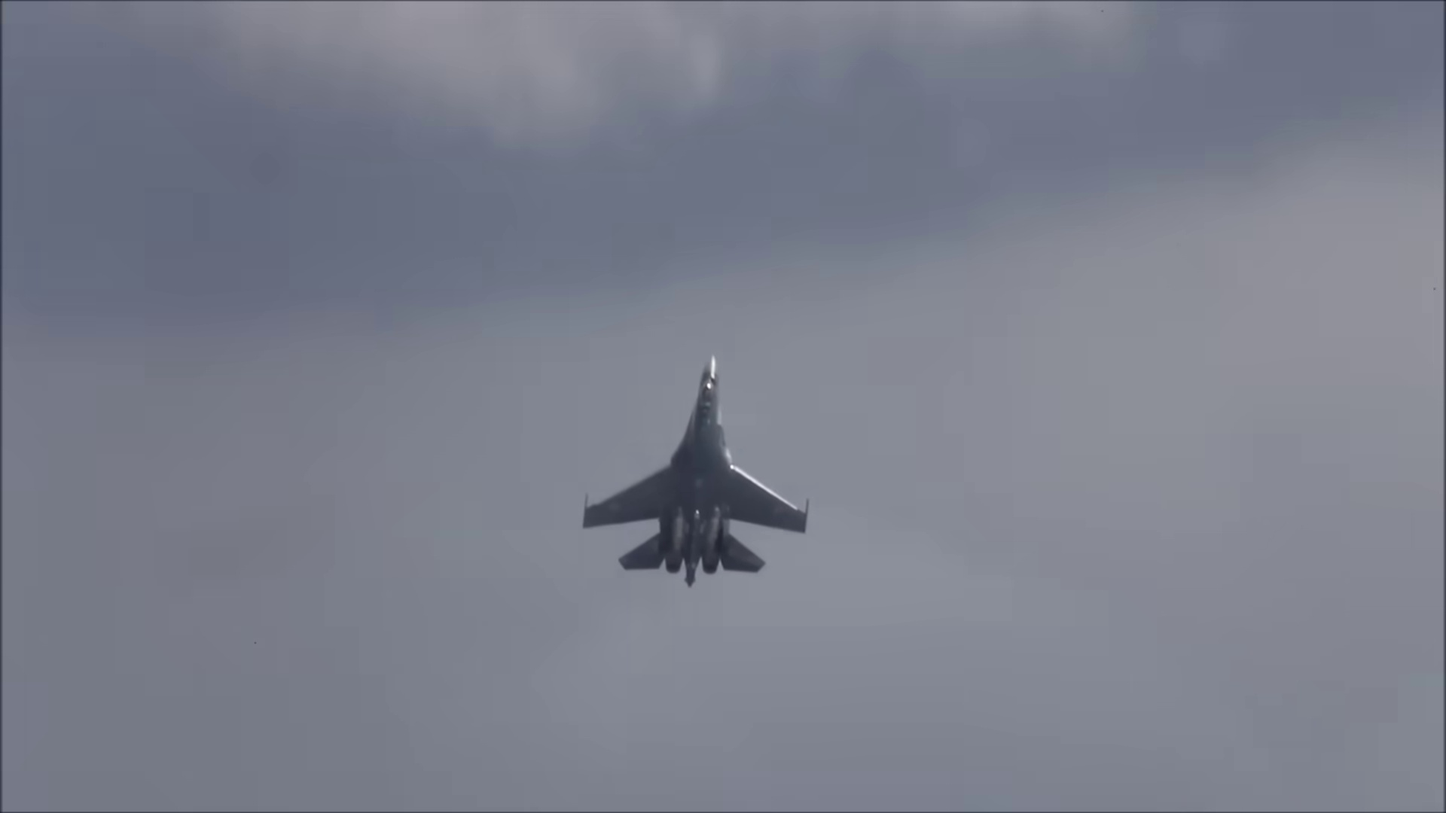Su35: (577, 346, 821, 597)
